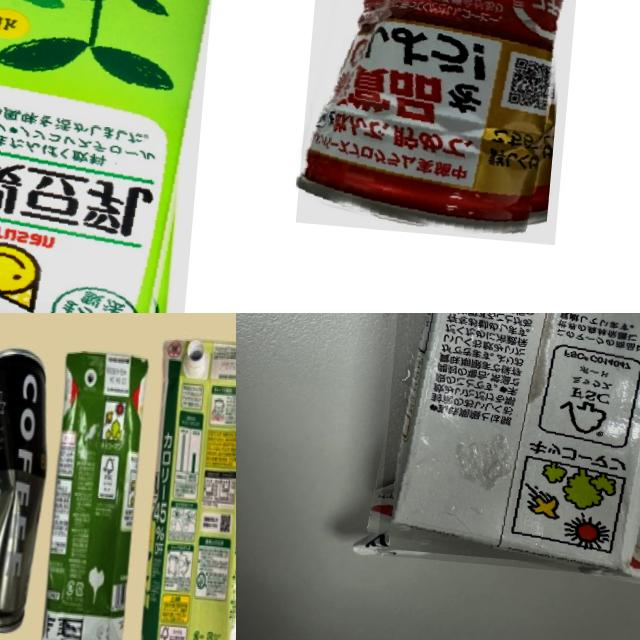Aluminium Foil: (376, 313, 640, 581), (0, 0, 219, 313), (38, 344, 149, 640), (131, 334, 236, 640)
Can: (295, 0, 590, 244), (0, 346, 54, 629)
